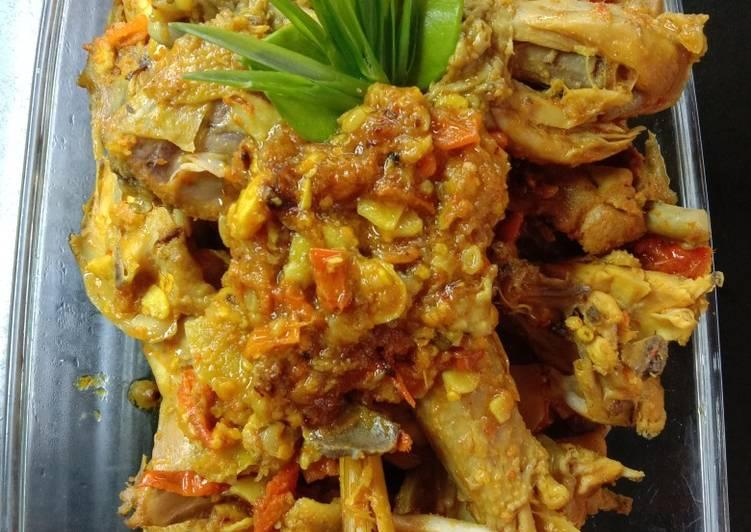ayam_betutu: (77, 2, 709, 531)
